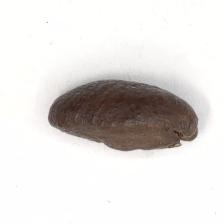NG: (51, 79, 199, 151)
